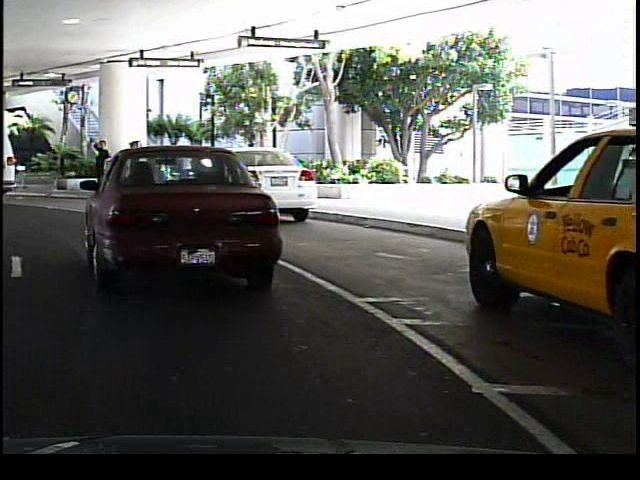person: (122, 139, 147, 196), (85, 137, 109, 195), (168, 143, 195, 193)
